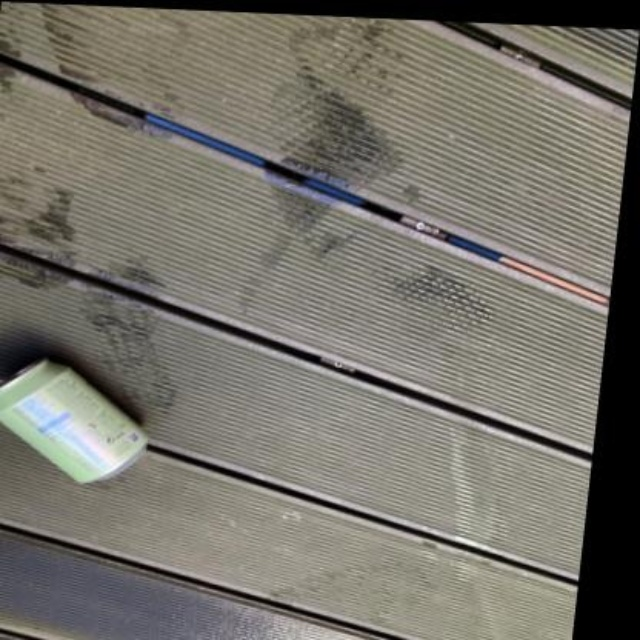trash: (0, 358, 146, 482)
